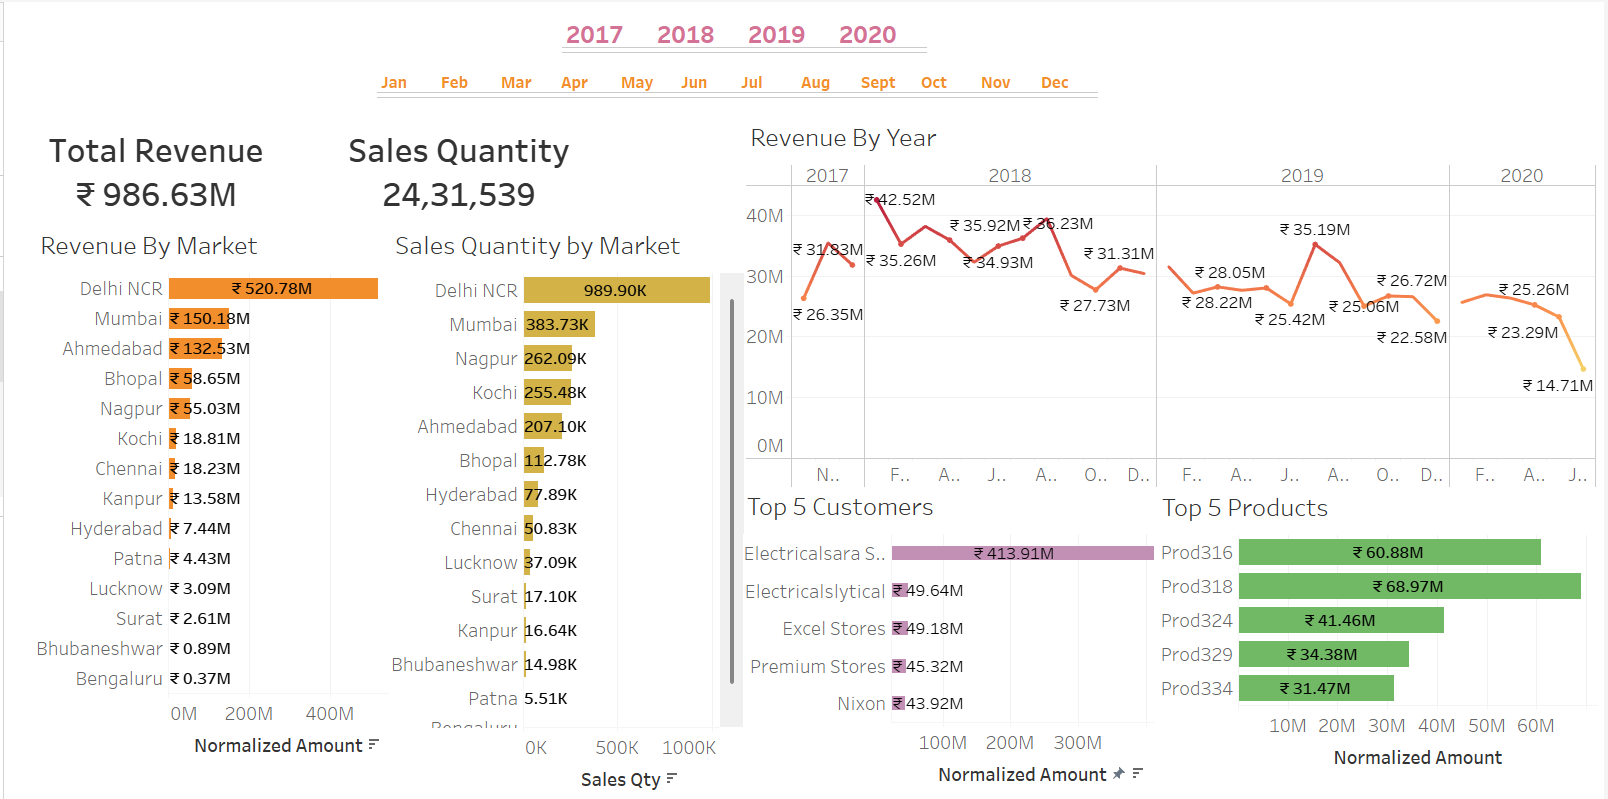

What the dashboard file says about the page in this screenshot:
{"tool":"tableau","page":{"name":"Dashboard 1","canvas":[1600,800],"ordinal":0},"visuals":[{"type":"worksheet","title":"Year","mark":"Automatic","cols":["cy_date"],"box":[557.9,17,391.5,48]},{"type":"worksheet","title":"Month","mark":"Automatic","cols":["cy_date"],"box":[373,55,780,60]},{"type":"worksheet","title":"Revenue","mark":"Automatic","box":[32,110,265,113]},{"type":"worksheet","title":"Quantity","mark":"Automatic","box":[335,110,257,110]},{"type":"worksheet","title":"Revenue By Year","mark":"Automatic","rows":["Calculation_1134062747522609152"],"cols":["cy_date","cy_date"],"box":[742,114,850,372]},{"type":"worksheet","title":"Revenue By Market","mark":"Automatic","rows":["markets_name"],"cols":["Calculation_1134062747522609152"],"box":[32,222,353,579]},{"type":"worksheet","title":"Sales Quantity by Market","mark":"Automatic","rows":["markets_name"],"cols":["sales_qty"],"box":[387,222,353,574]},{"type":"worksheet","title":"Top 5 Customers","mark":"Automatic","rows":["custmer_name"],"cols":["Calculation_1134062747522609152"],"box":[739,483,411,308]},{"type":"worksheet","title":"Top 5 Products","mark":"Automatic","rows":["product_code"],"cols":["Calculation_1134062747522609152"],"box":[1154,484,440,297]}]}

Visuals, with their boxes in screenshot pixels (x1, y1, x2, y2), scaled from the page's 1600x800 canvas onto the 1608x799 screenshot:
"Year" worksheet: bbox=(561, 17, 954, 65)
"Month" worksheet: bbox=(375, 55, 1159, 115)
"Revenue" worksheet: bbox=(32, 110, 298, 223)
"Quantity" worksheet: bbox=(337, 110, 595, 220)
"Revenue By Year" worksheet: bbox=(746, 114, 1600, 485)
"Revenue By Market" worksheet: bbox=(32, 222, 387, 798)
"Sales Quantity by Market" worksheet: bbox=(389, 222, 744, 795)
"Top 5 Customers" worksheet: bbox=(743, 482, 1156, 790)
"Top 5 Products" worksheet: bbox=(1160, 483, 1602, 780)
